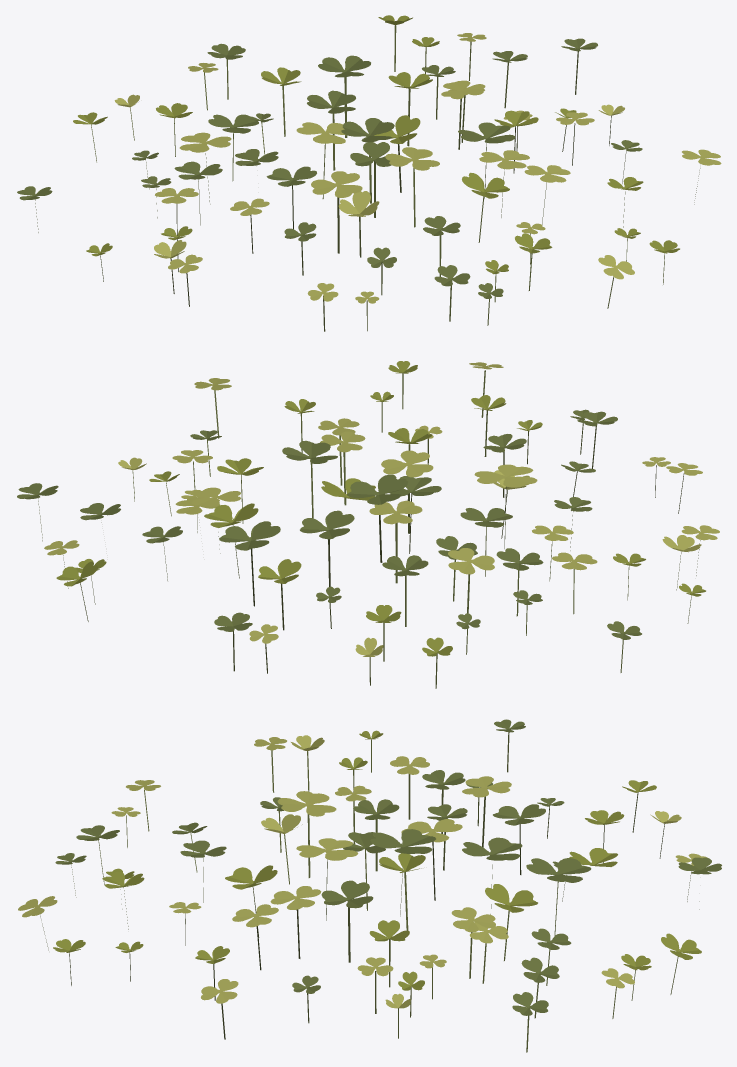
Rendered from Clover_1.fbx.
3 renders of one model, top to bottom at view 1: azimuth 30°, elevation 25°; view 2: azimuth 150°, elevation 25°; view 3: azimuth 270°, elevation 25°, orthographic. The views are drawn at different scales.
Visible parts, largest first — view 1: Clover_1; view 2: Clover_1; view 3: Clover_1.
Part boxes in pixels (x1,y1,x2,y2): Clover_1: (17, 15, 721, 331); Clover_1: (17, 361, 719, 688); Clover_1: (18, 719, 721, 1052).
Bounding box in the file's own units: 223 × 26.53 × 219.
Materials: 1 (1 with a texture image).
